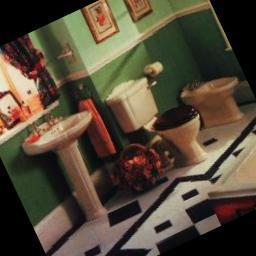Lavamanos: (22, 101, 134, 238)
Sanitario: (116, 65, 219, 185), (181, 67, 256, 142)
